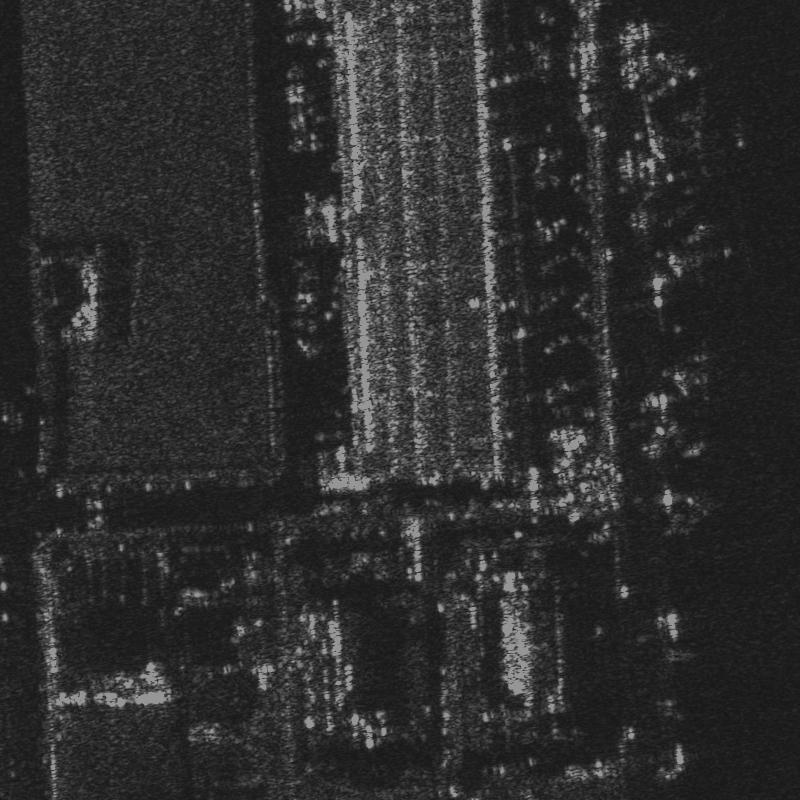A220: (642, 81, 753, 187)
other: (659, 211, 745, 295)
